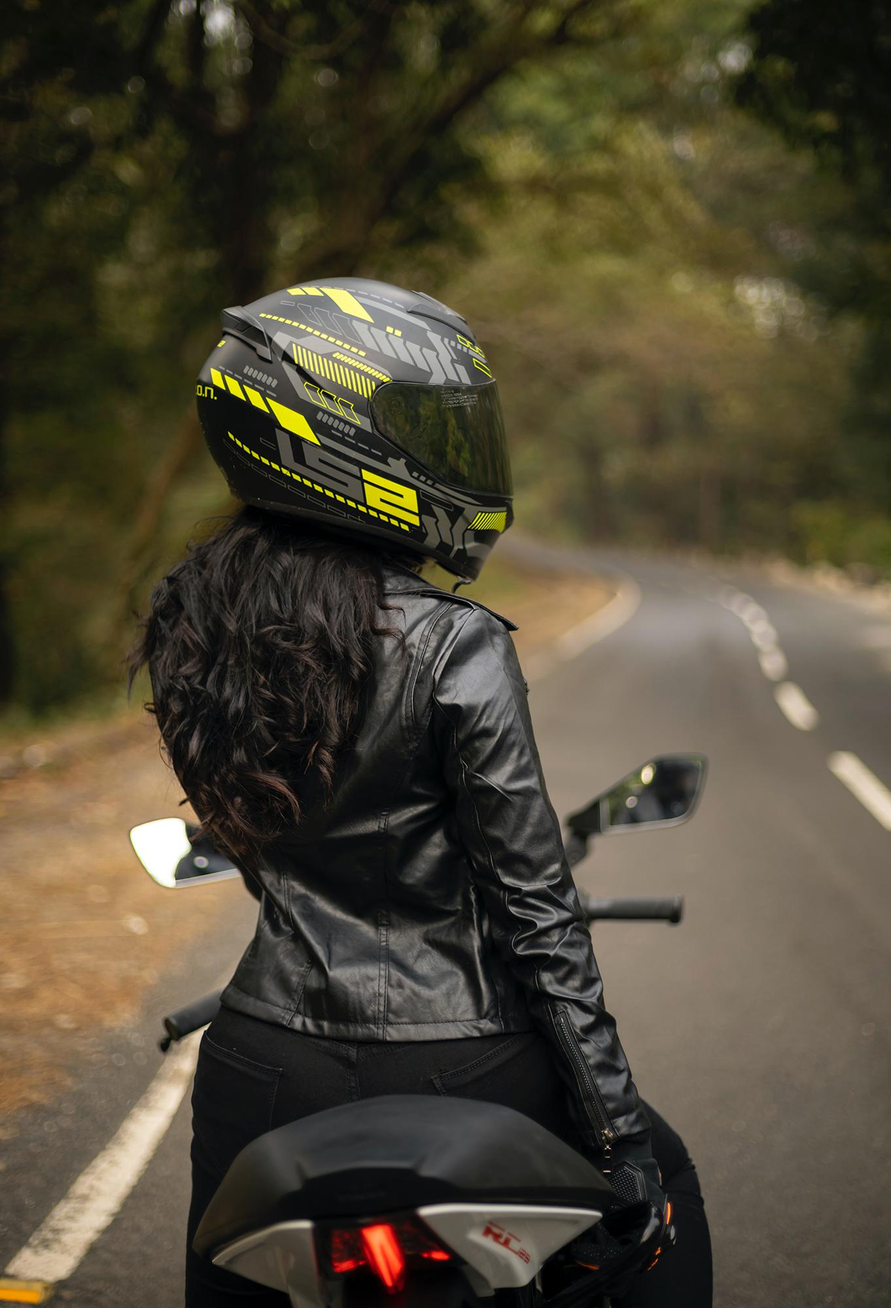helmet: (193, 274, 516, 587)
